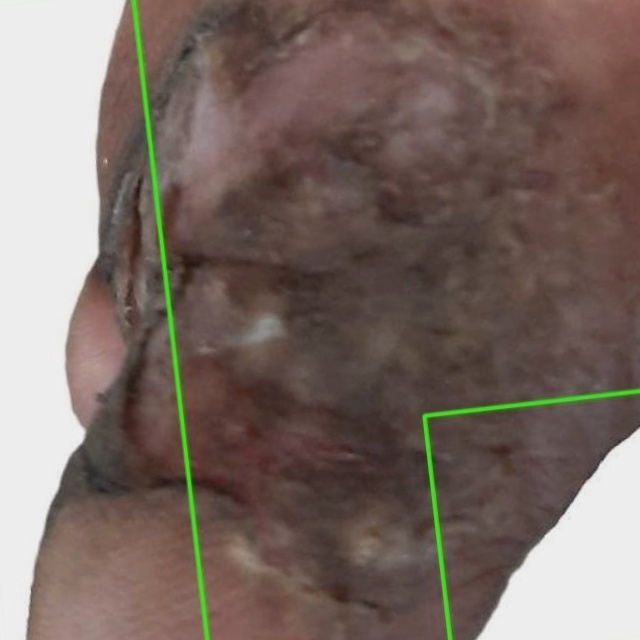Contact Dermatitis: (0, 0, 207, 639), (425, 392, 639, 639)
